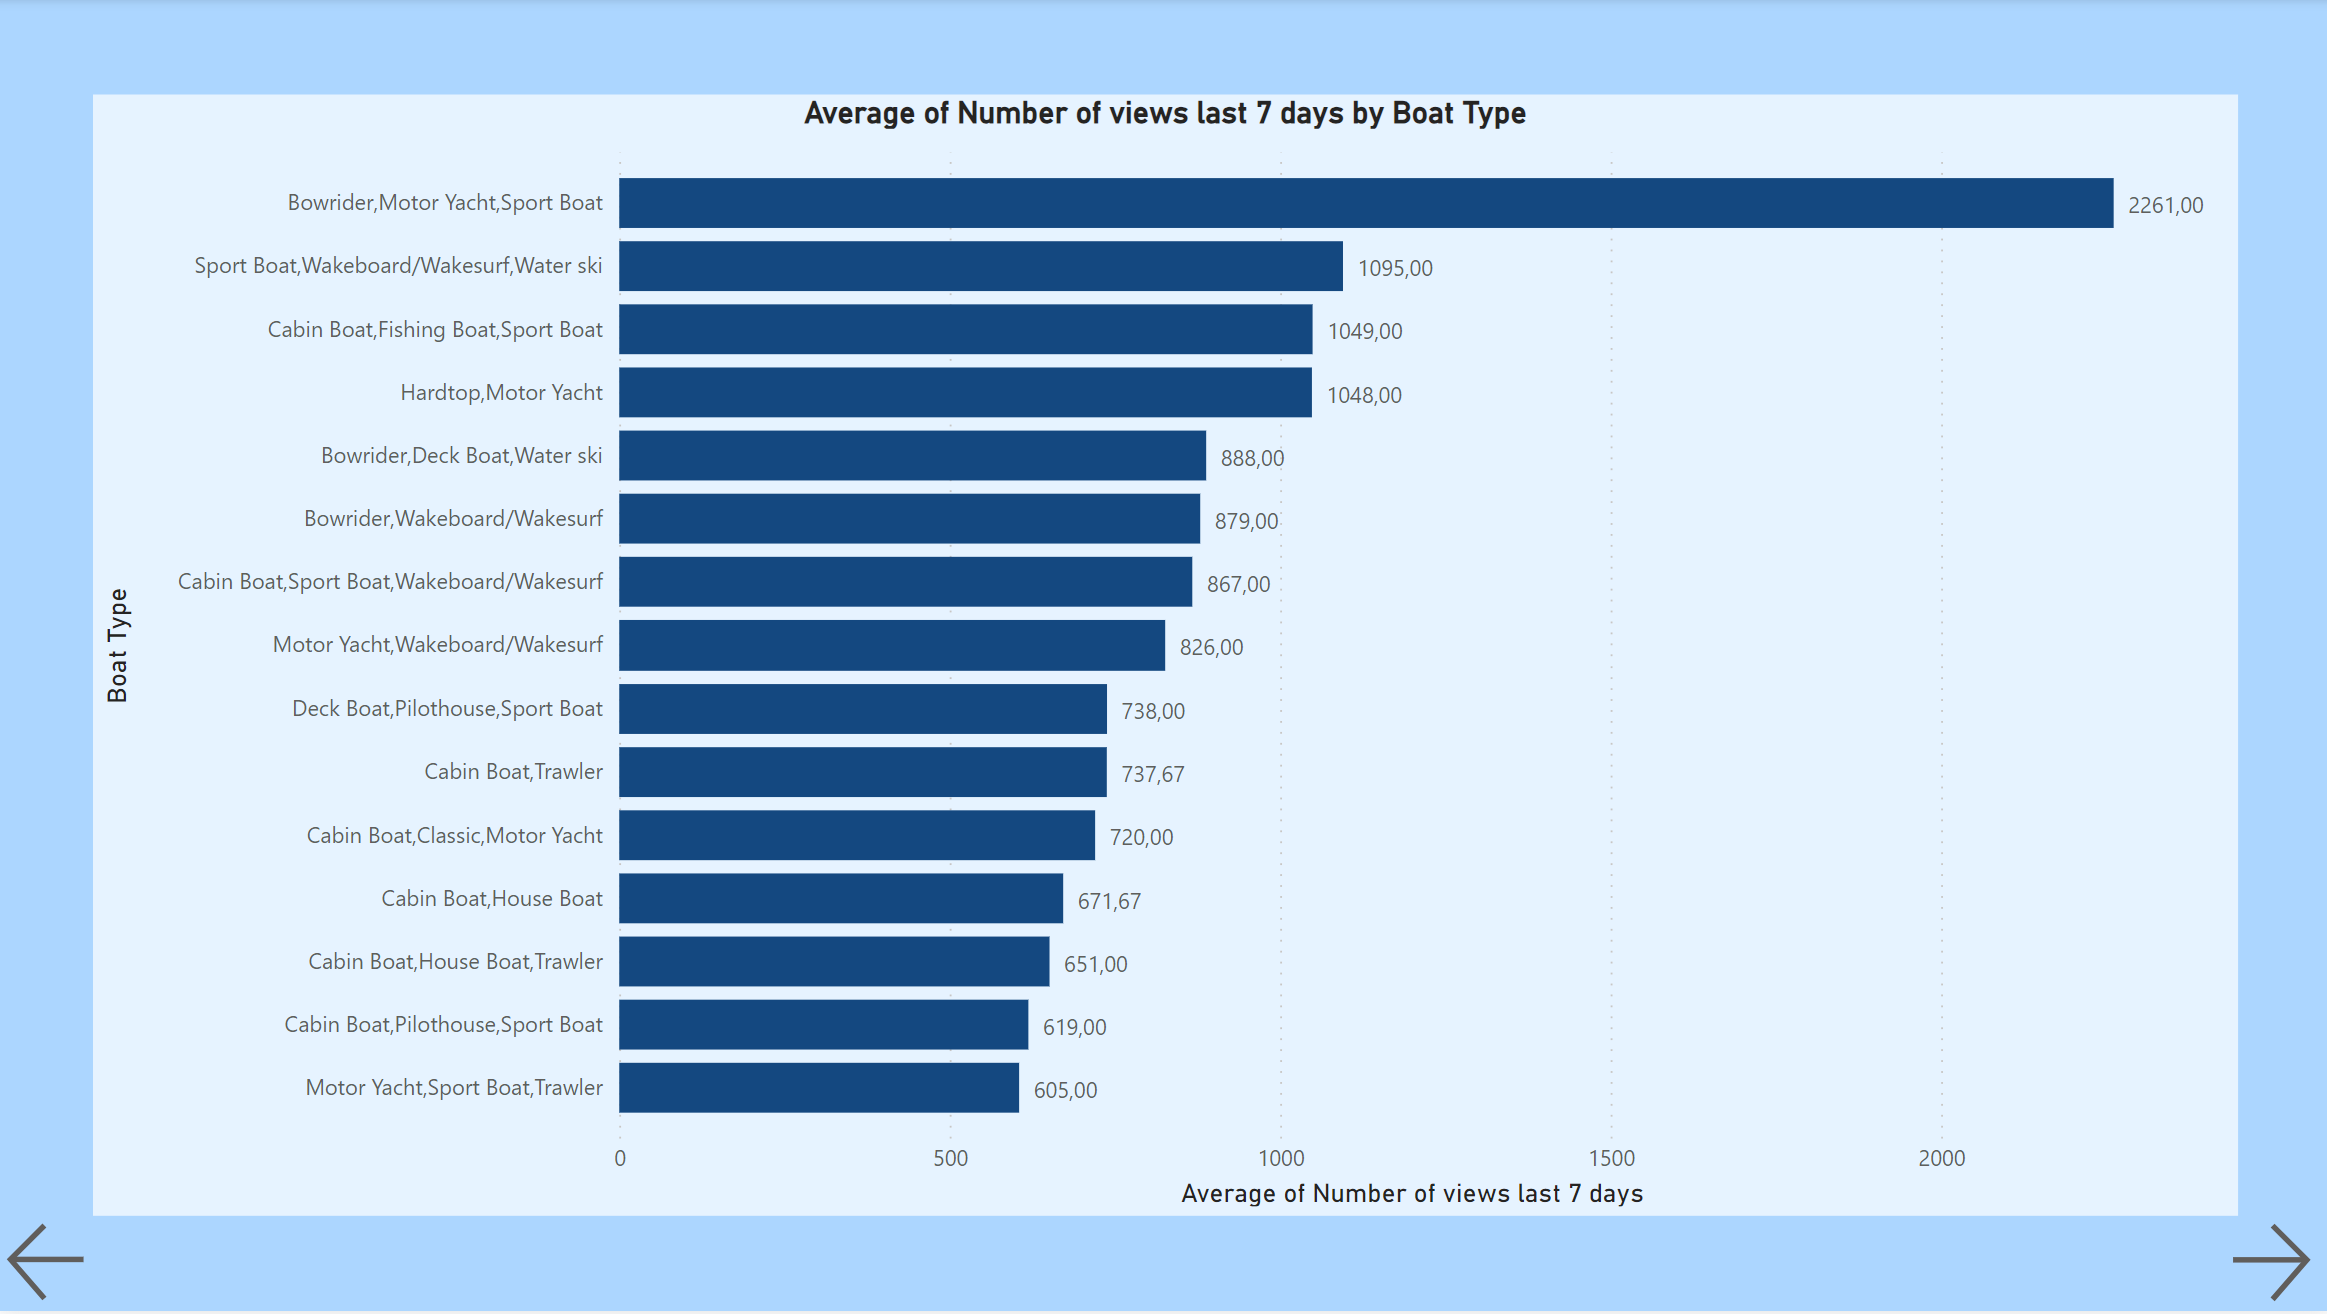

The page's visual inventory and layout, read from the dashboard file:
{"tool":"powerbi","page":{"name":"Page 1","canvas":[1280,720],"ordinal":1},"visuals":[{"type":"barChart","fields":{"Category":["boat_data_clean.Boat Type"],"Y":["Avg(boat_data_clean.Number of views last 7 days)"]},"box":[52.1,53.5,1176.4,614.2],"z":0},{"type":"actionButton","box":[1219.3,665.7,60.3,54.3],"z":1000},{"type":"actionButton","box":[0,666.2,68.5,53.8],"z":2000}]}

Visuals, with their boxes in screenshot pixels (x1, y1, x2, y2), scaled from the page's 1280x720 canvas onto the 2327x1315 screenshot:
barChart - boat_data_clean.Boat Type x Avg(boat_data_clean.Number of views last 7 days): <region>95, 98, 2233, 1219</region>
actionButton: <region>2217, 1216, 2326, 1314</region>
actionButton: <region>0, 1217, 125, 1314</region>
